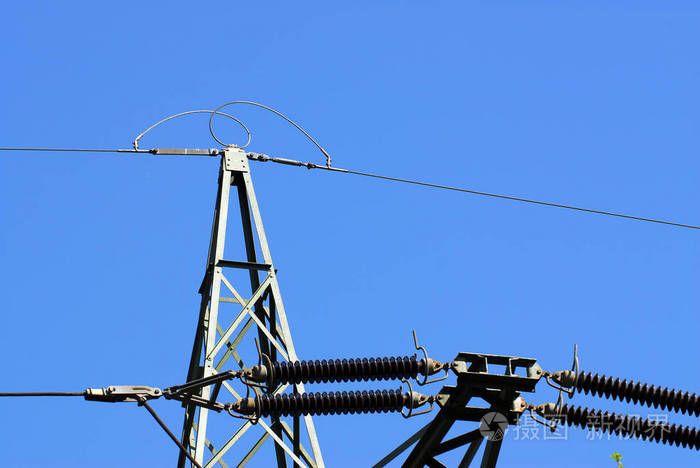insulator: (560, 402, 700, 452), (577, 371, 700, 419), (274, 350, 424, 387), (257, 388, 403, 419)
